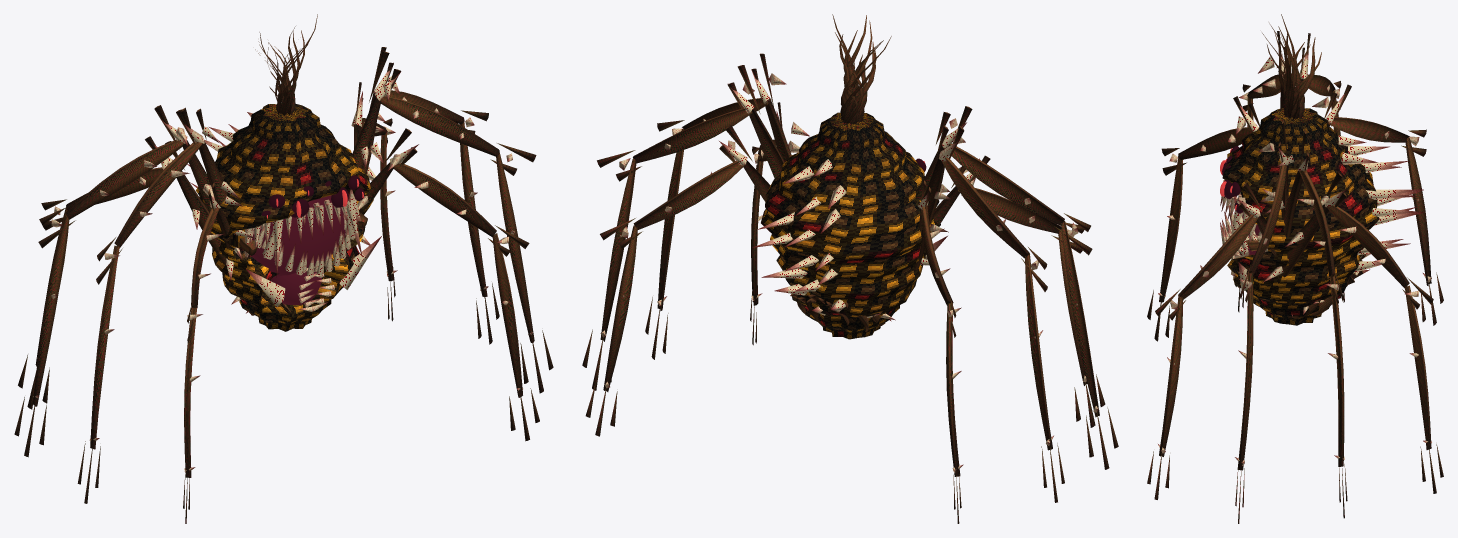
Rendered from daddy_cob_legs.glb.
The picture shows the model from 3 angles, left to right: view 1: azimuth 30°, elevation 25°; view 2: azimuth 150°, elevation 25°; view 3: azimuth 270°, elevation 25°; orthographic projection. The views are drawn at different scales.
Parts seen in each view (by area): view 1: Daddy_Cob_Torso, Boss_Fang_Rows, Upper_Abyssal_Maw, object 62, object 95, object 66, object 117, object 99, object 88, object 84, object 121, Necrotic_Crown_Tendrils (+14 smaller); view 2: Daddy_Cob_Torso, Dorsal_Horror_Spines, Necrotic_Crown_Tendrils, object 84, object 73, object 51, object 88, object 62, object 55, object 66, object 77, Daddy_Leg_Hip_R_1 (+11 smaller); view 3: Daddy_Cob_Torso, Dorsal_Horror_Spines, Necrotic_Crown_Tendrils, object 117, object 51, object 55, object 121, object 99, object 110, object 44, object 77, object 40 (+12 smaller).
Part boxes in pixels (bbox=[...]): Daddy_Cob_Torso: bbox=[196, 103, 373, 331]; Boss_Fang_Rows: bbox=[245, 189, 363, 311]; Upper_Abyssal_Maw: bbox=[250, 195, 346, 277]; object 62: bbox=[65, 140, 183, 219]; object 95: bbox=[380, 96, 499, 156]; object 66: bbox=[33, 215, 68, 406]; object 117: bbox=[393, 162, 496, 237]; object 99: bbox=[496, 152, 534, 342]; object 88: bbox=[90, 245, 119, 449]; object 84: bbox=[114, 141, 202, 247]; object 121: bbox=[492, 233, 522, 397]; Necrotic_Crown_Tendrils: bbox=[255, 14, 317, 115]; Daddy_Cob_Torso: bbox=[761, 112, 940, 339]; Dorsal_Horror_Spines: bbox=[752, 159, 846, 315]; Necrotic_Crown_Tendrils: bbox=[832, 14, 891, 124]; object 84: bbox=[943, 143, 1064, 225]; object 73: bbox=[633, 108, 752, 163]; object 51: bbox=[633, 161, 745, 229]; object 88: bbox=[1061, 221, 1099, 417]; object 62: bbox=[941, 157, 1029, 258]; object 55: bbox=[603, 225, 637, 391]; object 66: bbox=[1025, 254, 1052, 450]; object 77: bbox=[600, 158, 636, 341]; Daddy_Leg_Hip_R_1: bbox=[727, 65, 784, 178]; Daddy_Cob_Torso: bbox=[1222, 108, 1379, 325]; Dorsal_Horror_Spines: bbox=[1338, 135, 1423, 275]; Necrotic_Crown_Tendrils: bbox=[1262, 14, 1321, 119]; object 117: bbox=[1178, 214, 1258, 299]; object 51: bbox=[1327, 205, 1409, 288]; object 55: bbox=[1404, 285, 1431, 449]; object 121: bbox=[1159, 296, 1183, 456]; object 99: bbox=[1237, 273, 1253, 470]; object 110: bbox=[1159, 158, 1182, 302]; object 44: bbox=[1405, 137, 1431, 286]; object 77: bbox=[1329, 276, 1344, 466]; object 40: bbox=[1327, 117, 1409, 142].
Bounding box in the file's own units: 18.59 × 15.24 × 10.29.
7 materials, 4 textured.
